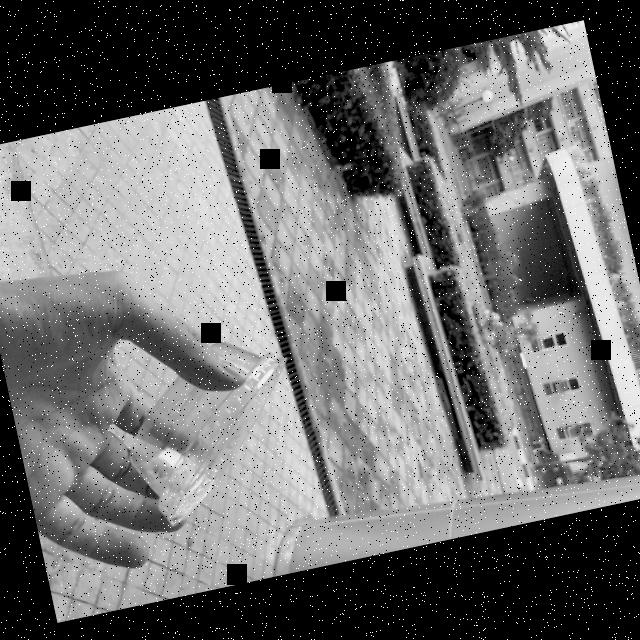plastic_cup_lid: (96, 315, 316, 531)
